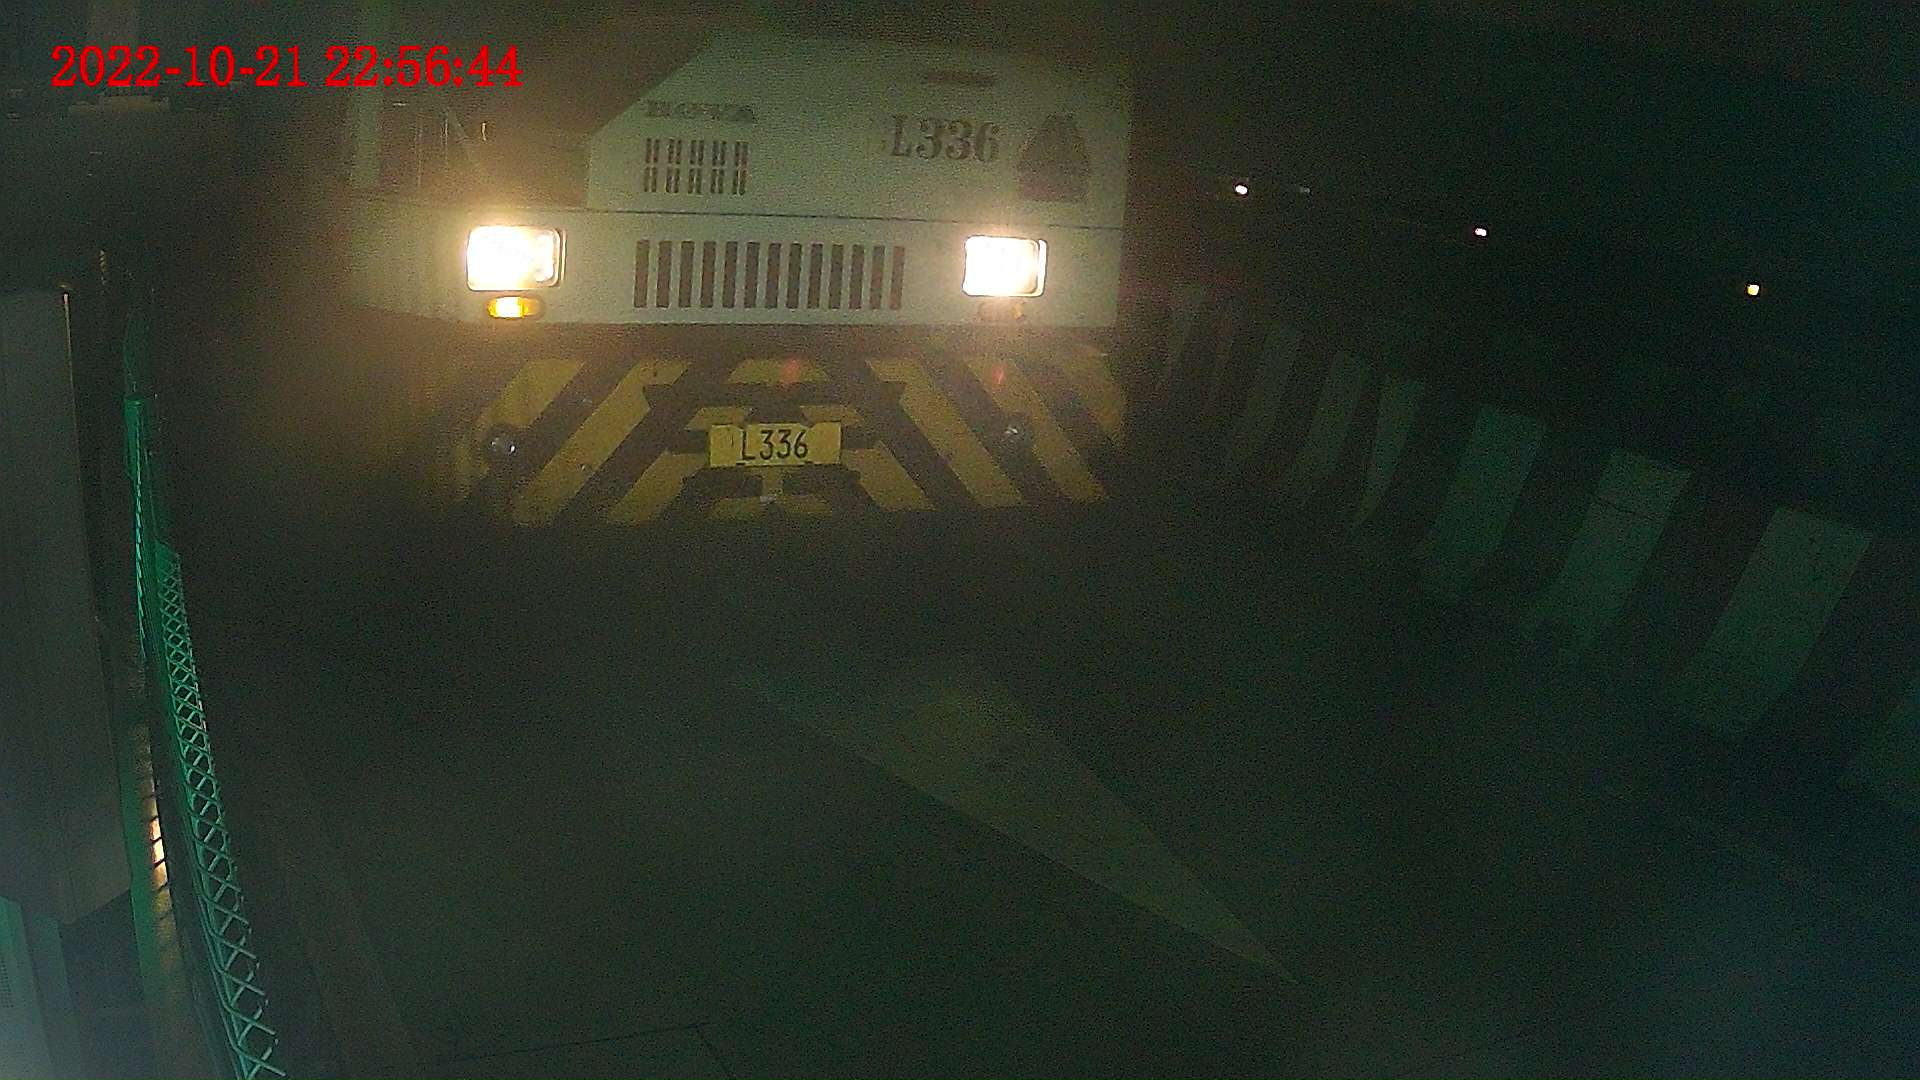head: (236, 1, 1130, 552)
plate: (710, 426, 838, 468)
